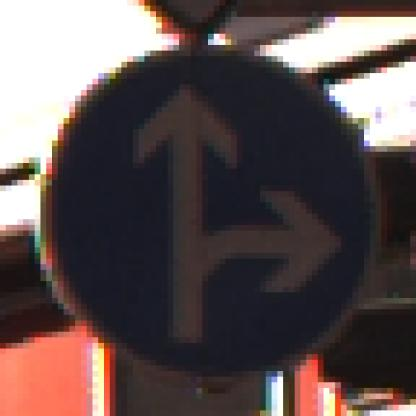Straight or Right: (36, 41, 382, 384)
